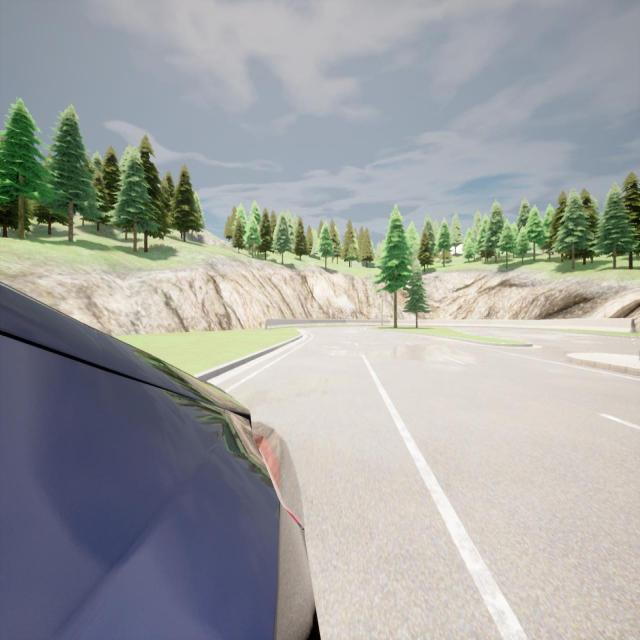Vehicle: (0, 283, 316, 638)
